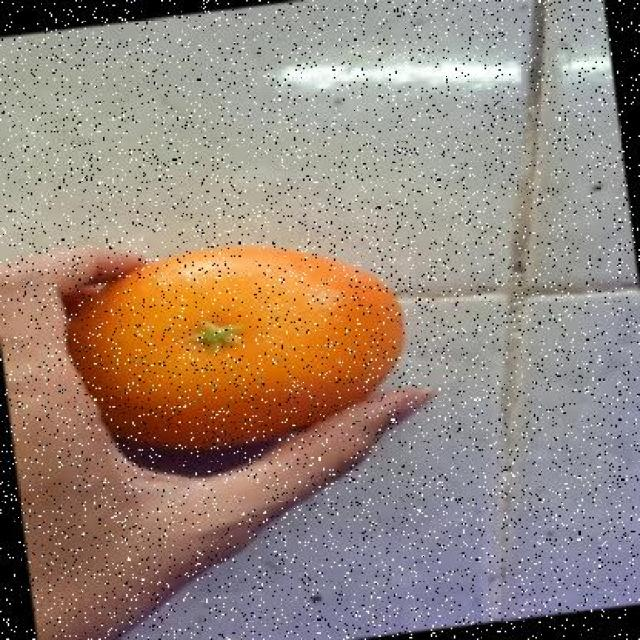Orange: (63, 242, 406, 454)
